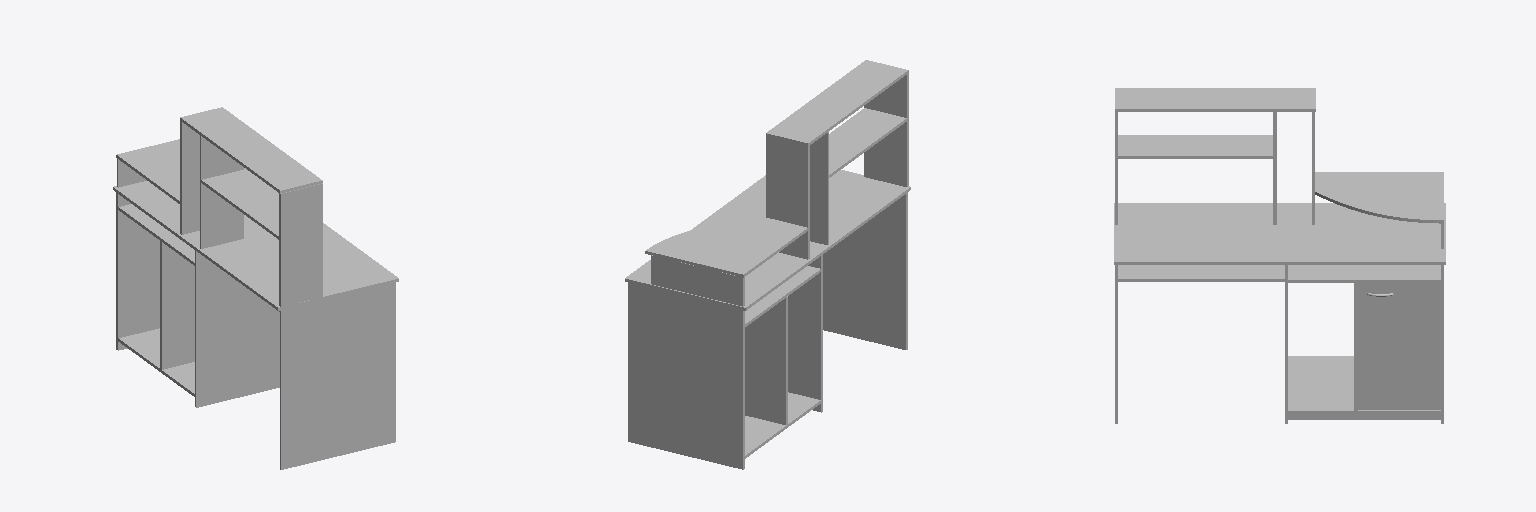
File: desk.obj
3 views of the same model, side by side, from view 1: azimuth 30°, elevation 25°; view 2: azimuth 150°, elevation 25°; view 3: azimuth 270°, elevation 25° (orthographic).
Parts seen in each view (by area): view 1: planche02, planche04, planche1, planche03, planche08, planche11, planche07, planche09, planche12, Line01, planche10, planche06 (+1 smaller); view 2: planche03, planche02, planche1, Line01, planche07, planche11, planche04, planche10, planche08, planche13, planche12, planche09 (+2 smaller); view 3: planche1, portebureau, Line01, planche11, planche06, planche12, planche14, planche05, portebureau01.
Boxes of the visible parts, box(x1,y1,x2,y2) form: planche02: box(280, 282, 395, 469); planche04: box(195, 250, 279, 407); planche1: box(113, 168, 398, 310); planche03: box(116, 193, 159, 350); planche08: box(279, 183, 322, 306); planche11: box(180, 107, 322, 193); planche07: box(160, 241, 194, 369); planche09: box(200, 135, 243, 248); planche12: box(201, 170, 278, 239); Line01: box(116, 139, 180, 204); planche10: box(180, 121, 199, 234); planche06: box(118, 328, 194, 396); planche03: box(628, 282, 744, 469); planche02: box(823, 193, 907, 349); planche1: box(625, 170, 910, 310); Line01: box(645, 218, 808, 277); planche07: box(745, 296, 787, 424); planche11: box(766, 60, 908, 145); planche04: box(788, 255, 822, 412); planche10: box(766, 136, 809, 259); planche08: box(864, 73, 908, 186); planche13: box(651, 255, 744, 310); planche12: box(829, 108, 906, 177); planche09: box(810, 132, 828, 244); planche1: box(1114, 203, 1445, 264); portebureau: box(1358, 283, 1440, 409); Line01: box(1315, 172, 1443, 223); planche11: box(1115, 88, 1315, 111); planche06: box(1288, 356, 1440, 413); planche12: box(1118, 135, 1272, 158); planche14: box(1118, 265, 1284, 281); planche05: box(1288, 265, 1440, 282); portebureau01: box(1288, 414, 1440, 419).
Bounding box in the file's own units: 22.44 × 49.51 × 53.15.